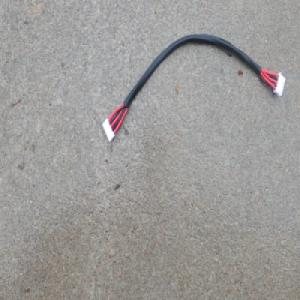Wire: (101, 32, 286, 144)
